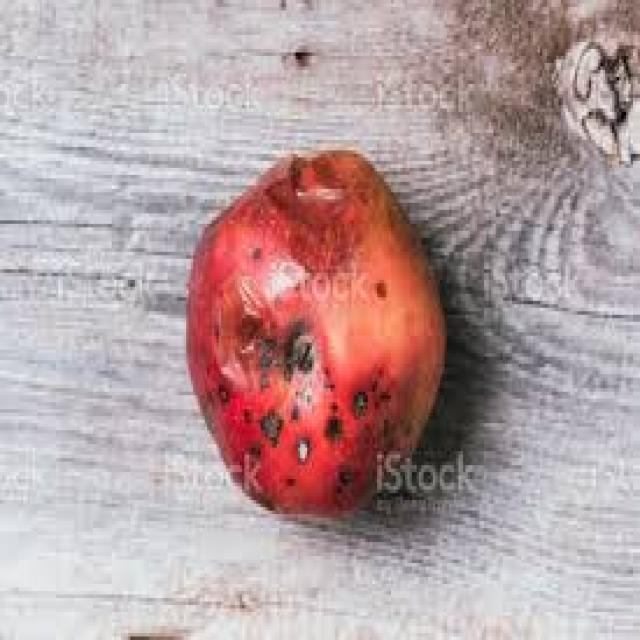biodegradable: (184, 144, 440, 518)
